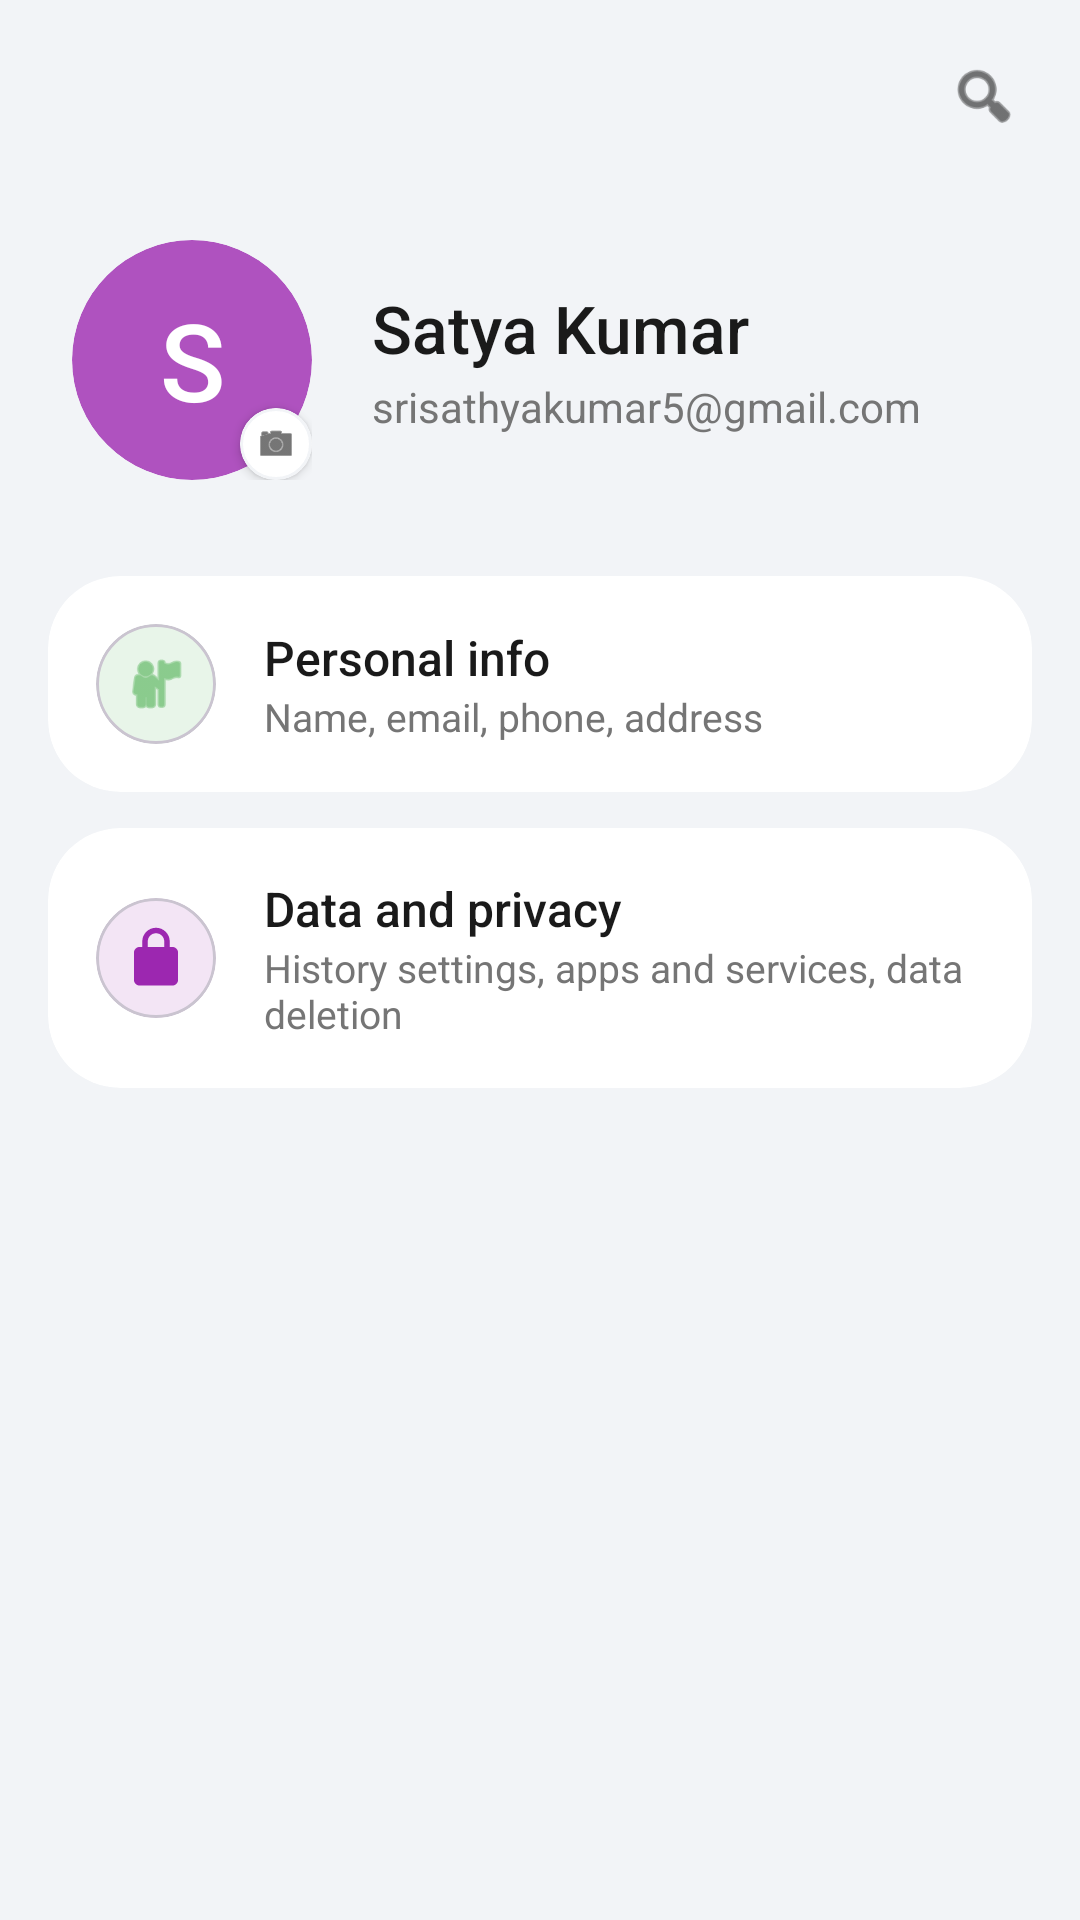

Screen size 1080px×1920px. Icon name, then its center in pixels as (x=x, y=y):
camera: (x=276, y=443)
lock: (x=156, y=956)
Search: (x=984, y=96)
